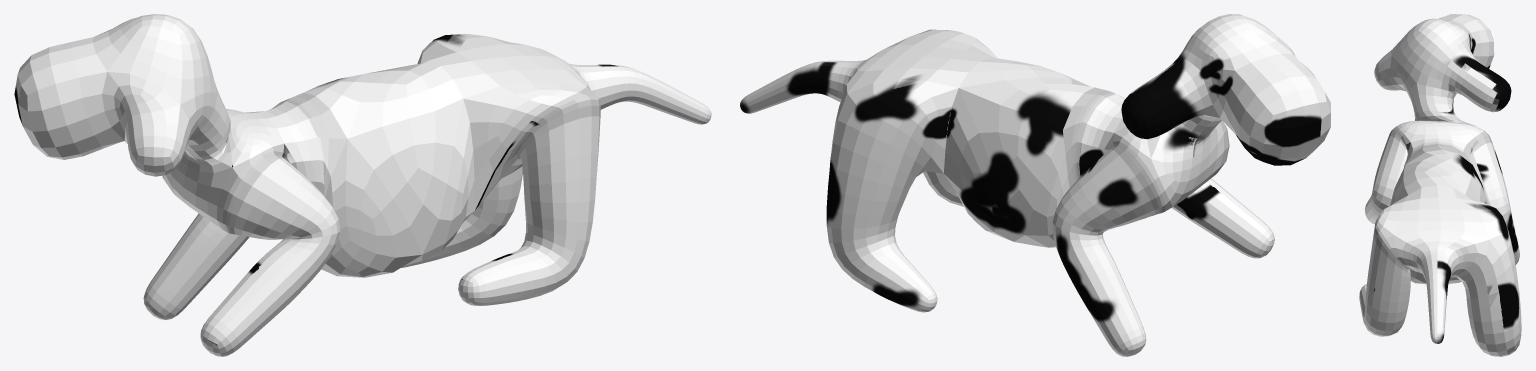
The model's file is thedisruptivedoginquestion222.fbx.
The picture shows the model from 3 angles, left to right: view 1: azimuth 30°, elevation 25°; view 2: azimuth 150°, elevation 25°; view 3: azimuth 270°, elevation 25°; orthographic projection. The views are drawn at different scales.
Visible parts, largest first — view 1: Cube; view 2: Cube; view 3: Cube.
Boxes of the visible parts, x1,y1,x2,y2 form: Cube: [14, 14, 711, 356]; Cube: [740, 14, 1330, 356]; Cube: [1359, 14, 1521, 356].
Bounding box in the file's own units: 603 × 309 × 197.
Materials: 1 (1 with a texture image).
